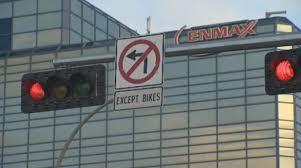no_left_turn: (117, 38, 160, 82)
